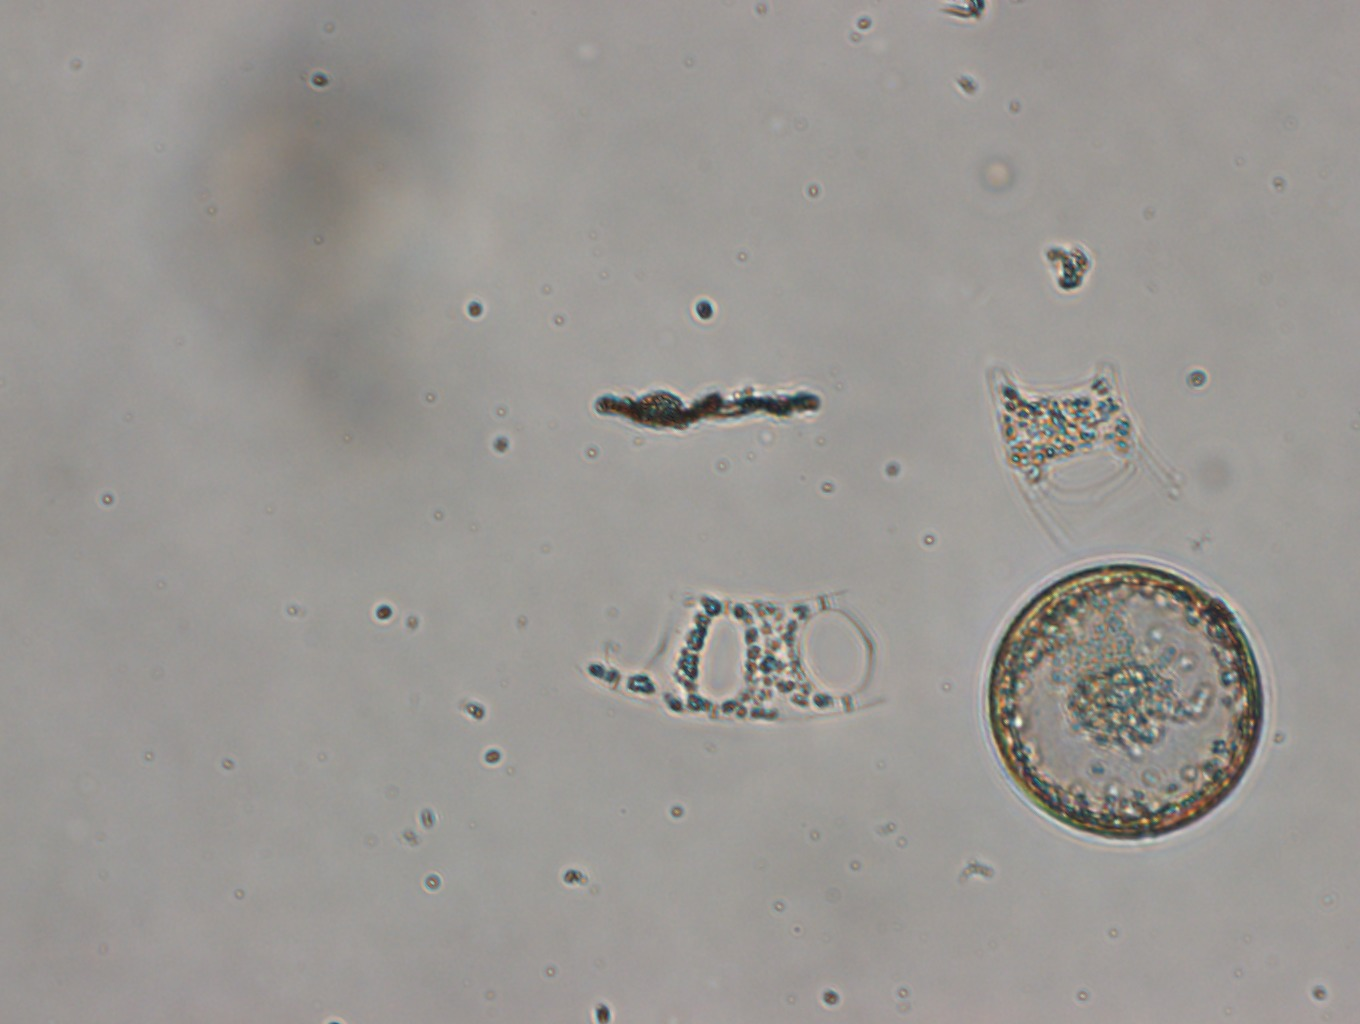coscinodiscus: (977, 547, 1280, 849)
eucampia: (589, 561, 908, 733), (974, 353, 1197, 549)
